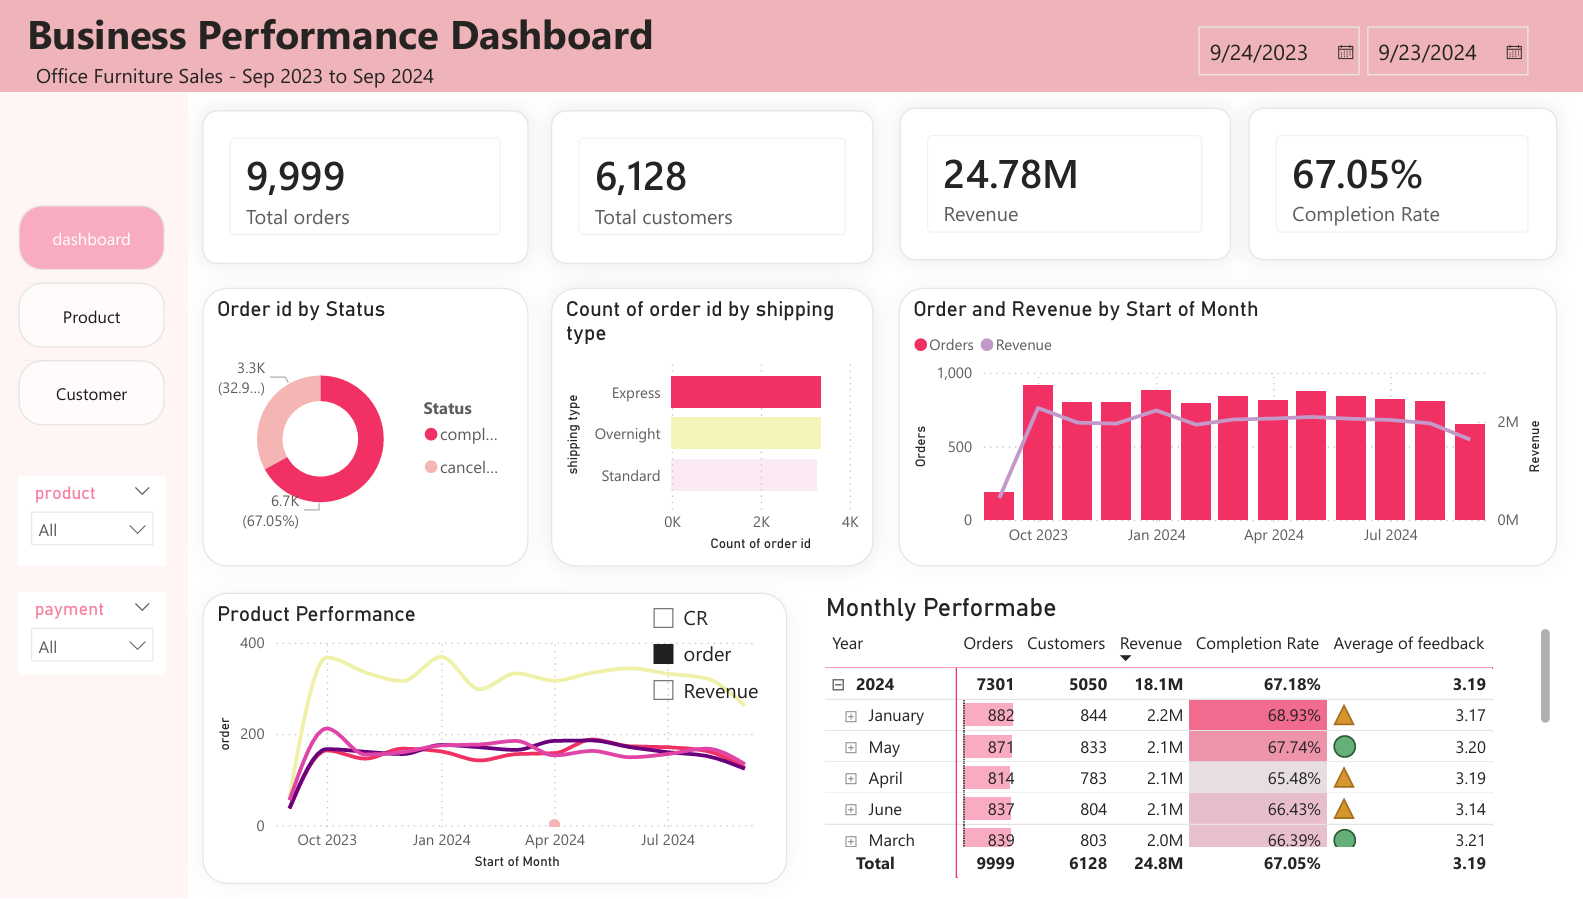

What the dashboard file says about the page in this screenshot:
{"tool":"powerbi","page":{"name":"dashboard","canvas":[1280,720],"ordinal":0},"visuals":[{"type":"textbox","box":[10.1,0,1269.6,75],"z":0},{"type":"textbox","box":[34.6,44.7,486.2,41.8],"z":1000},{"type":"cardVisual","fields":{"Data":["CountNonNull(orders.order id)"]},"box":[173.1,89.5,261.1,122.6],"z":2000},{"type":"cardVisual","fields":{"Data":["Count(orders.customer id)"]},"box":[451.6,89.5,258.3,122.6],"z":3000},{"type":"cardVisual","fields":{"Data":["*Measure table.M_Revenue"]},"box":[731.5,86.6,264,122.6],"z":4000},{"type":"cardVisual","fields":{"Data":["*Measure table.M_completionRate"]},"box":[1009.9,86.6,246.7,122.6],"z":5000},{"type":"donutChart","fields":{"Category":["orders.Status"],"Y":["CountNonNull(orders.order id)"]},"box":[173.1,230.8,261.1,223.6],"z":6000},{"type":"textbox","box":[9.6,75.5,152.2,644.8],"z":7000},{"type":"lineStackedColumnComboChart","title":"Order and Revenue by Start of Month","fields":{"Category":["orders.Start of Month"],"Y":["CountNonNull(orders.order id)"],"Y2":["*Measure table.M_Revenue"]},"box":[730,230.8,526.6,223.6],"z":8000},{"type":"clusteredBarChart","fields":{"Category":["shipping.shipping type"],"Y":["CountNonNull(orders.order id)"]},"box":[451.6,230.8,258.3,223.6],"z":9000},{"type":"lineChart","title":"Product Performance","fields":{"Category":["orders.Start of Month"],"Series":["product.product type"],"Y":["*Measure table.M_order"]},"box":[173.1,474.7,467.5,233.7],"z":10000},{"type":"pivotTable","title":"Monthly Performabe","fields":{"Rows":["orders.order date.Variation.Date Hierarchy.Year","orders.order date.Variation.Date Hierarchy.Month","orders.order date.Variation.Date Hierarchy.Day"],"Values":["CountNonNull(orders.order id)","Count(orders.customer id)","*Measure table.M_Revenue","*Measure table.M_completionRate","Avg(orders.feedback)"]},"box":[666.6,474.7,590.1,233.7],"z":11000},{"type":"pageNavigator","box":[26.4,165.4,117.5,178.6],"z":12000},{"type":"slicer","fields":{"Values":["product.product type"]},"box":[26.4,382.3,117.5,71.9],"z":13000},{"type":"slicer","fields":{"Values":["payment.payment type"]},"box":[26.4,474.6,117.5,65.9],"z":14000},{"type":"slicer","fields":{"Values":["orders.order date"]},"box":[956.6,11.5,301.5,51.9],"z":15000},{"type":"slicer","fields":{"Values":["Product Metrics.Product Metrics"]},"box":[521.3,474.6,118.7,99.5],"z":16000}]}

Visuals, with their boxes in screenshot pixels (x1, y1, x2, y2), scaled from the page's 1280x720 canvas onto the 1583x899 screenshot:
textbox: select_region(12, 0, 1582, 94)
textbox: select_region(43, 56, 644, 108)
cardVisual - CountNonNull(orders.order id): select_region(214, 112, 537, 265)
cardVisual - Count(orders.customer id): select_region(559, 112, 878, 265)
cardVisual - *Measure table.M_Revenue: select_region(905, 108, 1231, 261)
cardVisual - *Measure table.M_completionRate: select_region(1249, 108, 1554, 261)
donutChart - orders.Status x CountNonNull(orders.order id): select_region(214, 288, 537, 567)
textbox: select_region(12, 94, 200, 898)
"Order and Revenue by Start of Month" lineStackedColumnComboChart: select_region(903, 288, 1554, 567)
clusteredBarChart - shipping.shipping type x CountNonNull(orders.order id): select_region(559, 288, 878, 567)
"Product Performance" lineChart: select_region(214, 593, 792, 885)
"Monthly Performabe" pivotTable: select_region(824, 593, 1554, 885)
pageNavigator: select_region(33, 207, 178, 430)
slicer - product.product type: select_region(33, 477, 178, 567)
slicer - payment.payment type: select_region(33, 593, 178, 675)
slicer - orders.order date: select_region(1183, 14, 1556, 79)
slicer - Product Metrics.Product Metrics: select_region(645, 593, 792, 717)
